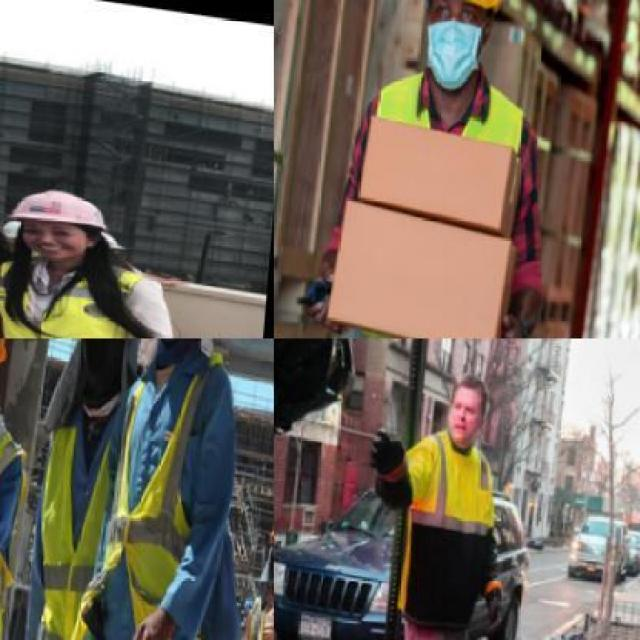hat: (0, 162, 125, 233)
